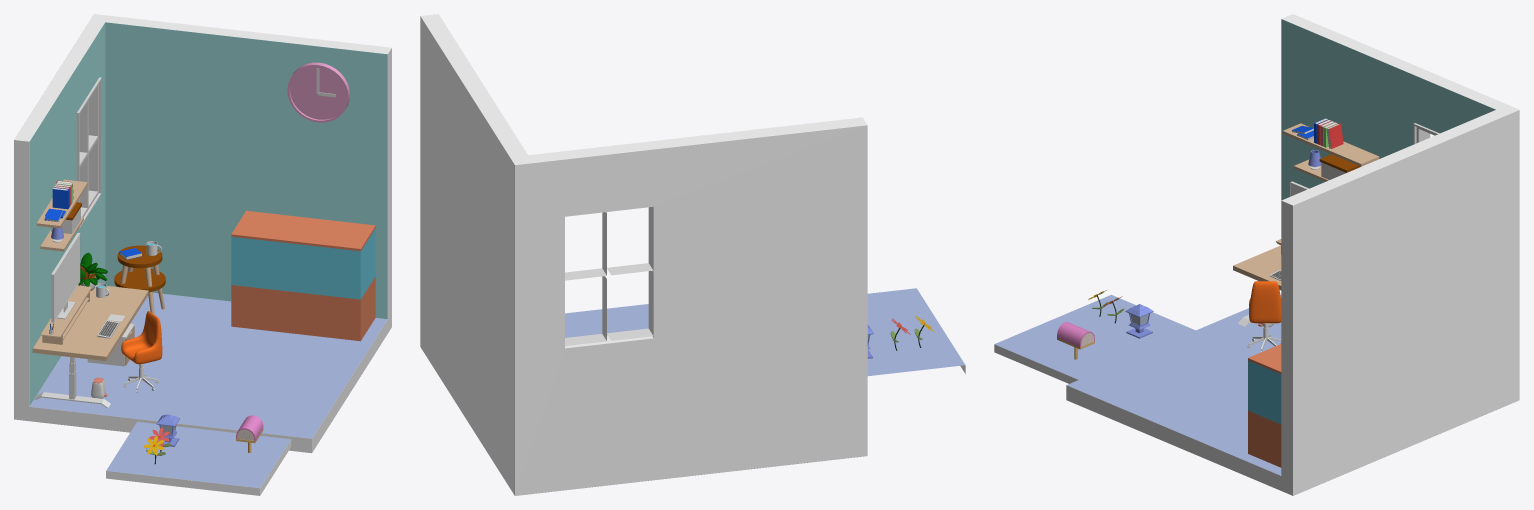
Rendered from FinalRoom.glb.
3 renders of one model, left to right at view 1: azimuth 30°, elevation 25°; view 2: azimuth 150°, elevation 25°; view 3: azimuth 270°, elevation 25°, orthographic. The views are drawn at different scales.
Parts seen in each view (by area): view 1: Room Wall, Cube.034, Room Wall.001, AquaGlass, Table Top, Circle Table Top.001, Window.001, Cube.004, Screen, Table Top.002, Circle Table Top.002, Cube.053 (+7 smaller); view 2: Room Wall, Room Wall.001, Window.001; view 3: Room Wall, Room Wall.001, Cube.034, AquaGlass, Cube.004, Table Top, Cube.053, Cylinder.008, Lamp, Cube.066.
Part boxes in pixels (x1,y1,x2,y2): Room Wall: (14, 14, 391, 453); Cube.034: (231, 210, 375, 341); Room Wall.001: (106, 422, 291, 495); AquaGlass: (231, 228, 375, 299); Table Top: (32, 285, 148, 360); Circle Table Top.001: (287, 62, 349, 122); Window.001: (76, 77, 101, 229); Cube.004: (121, 311, 162, 364); Screen: (54, 235, 79, 320); Table Top.002: (40, 285, 91, 344); Circle Table Top.002: (114, 268, 165, 292); Cube.053: (36, 179, 87, 228); Room Wall: (420, 14, 867, 495); Room Wall.001: (867, 288, 965, 376); Window.001: (565, 207, 653, 345); Room Wall: (1066, 14, 1519, 495); Room Wall.001: (994, 294, 1195, 383); Cube.034: (1248, 344, 1281, 467); AquaGlass: (1248, 360, 1281, 424); Cube.004: (1249, 281, 1281, 323); Table Top: (1233, 245, 1281, 290); Cube.053: (1282, 123, 1379, 166); Cylinder.008: (1057, 322, 1094, 359); Lamp: (1125, 304, 1153, 338); Cube.066: (1319, 154, 1360, 179).
Size of the model in its own units: 28.04 by 19.83 by 32.51.
